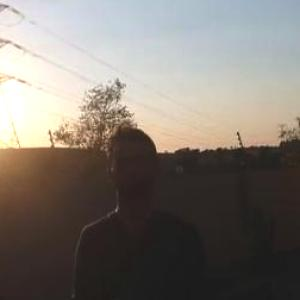follow: (69, 104, 217, 299)
